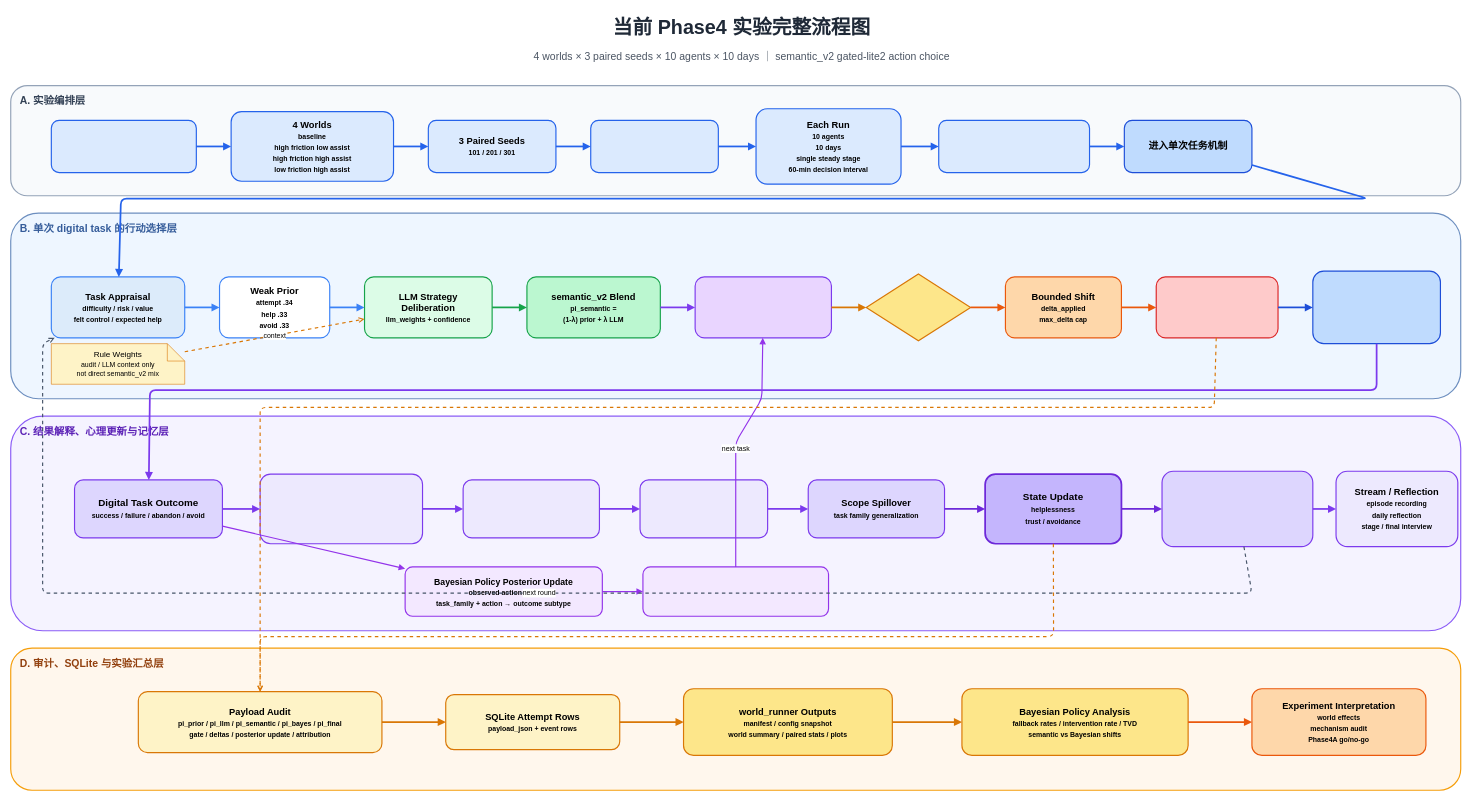
Image size: 1471x800. Some labels were removed from this diagram. Here are the shapes that lost their labels. From the top down, the centre of each, then its label:
At point 123,146: "world_runner.py group-id / world-batch / paired summary".
At point 654,146: "12 World Runs 4 worlds × 3 seeds".
At point 1014,146: "Task windows / carry-over new task or pending task surfaces".
At point 763,307: "Bayesian Posterior Predictive Policy Q_bayes / pi_bayes".
At point 918,307: "Evidence Gate confidence ≥ threshold entropy ≤ threshold".
At point 1216,307: "Safety Guard prob floor / normalize pi_final".
At point 1376,307: "Sampled Action attempt_self seek_help_then_attempt avoid".
At point 341,508: "Outcome Interpretation support_mode avoid_reason uncontrollability calibration".
At point 531,508: "Event Appraisal anxiety / frustration relief / confidence".
At point 703,508: "Attribution locus / stability / scope".
At point 1237,508: "Experience Memory task_domain_memory help_effect_memory recent_episode_buffer".
At point 735,591: "Bayesian Policy Memory posterior predictive reused in next decision".
